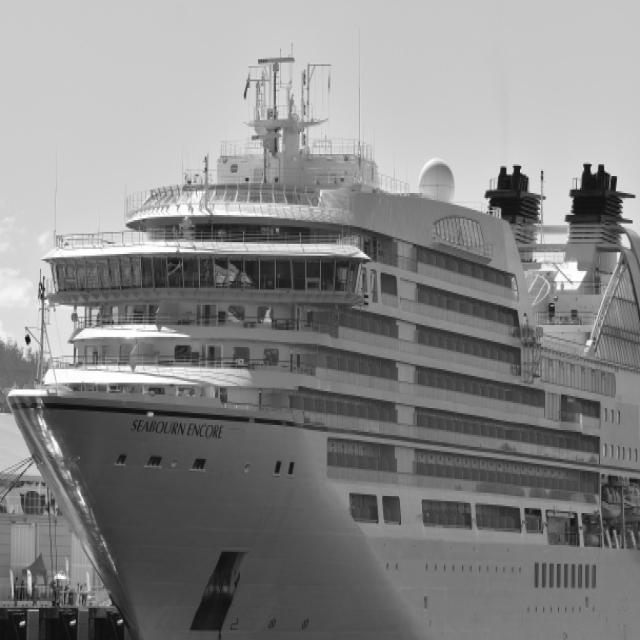cruises: (4, 46, 640, 640)
